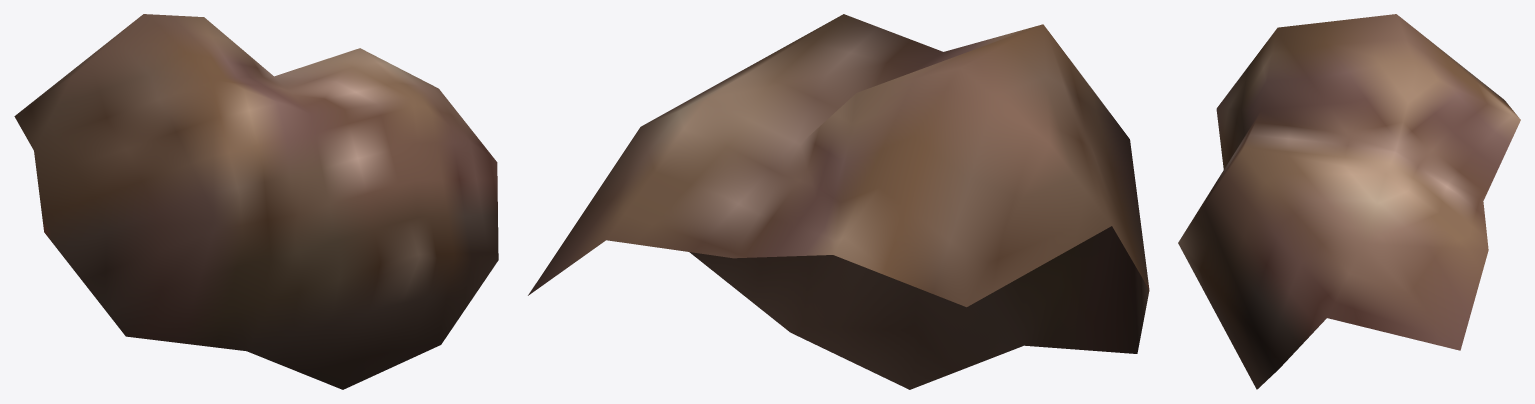
The model's file is fg_mush4_out.dae.
3 views of the same model, side by side, from view 1: azimuth 30°, elevation 25°; view 2: azimuth 150°, elevation 25°; view 3: azimuth 270°, elevation 25° (orthographic). The views are drawn at different scales.
Parts seen in each view (by area): view 1: fg_mush4_out; view 2: fg_mush4_out; view 3: fg_mush4_out.
Part boxes in pixels (x1,y1,x2,y2): fg_mush4_out: (14, 14, 498, 389); fg_mush4_out: (528, 14, 1149, 389); fg_mush4_out: (1178, 14, 1520, 389).
Bounding box in the file's own units: 11.7 × 8.83 × 9.07.
1 material, 1 textured.
